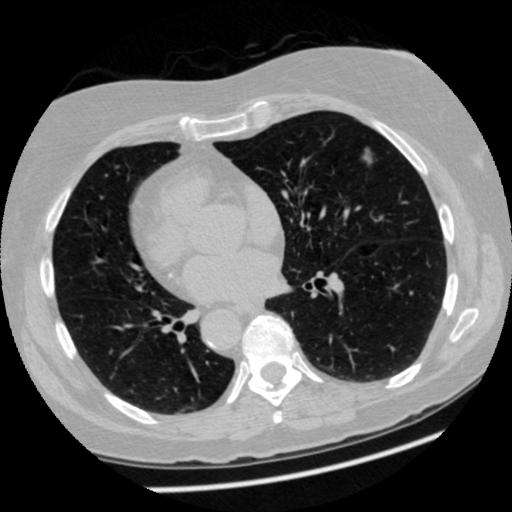nodule: (359, 145, 382, 168)
